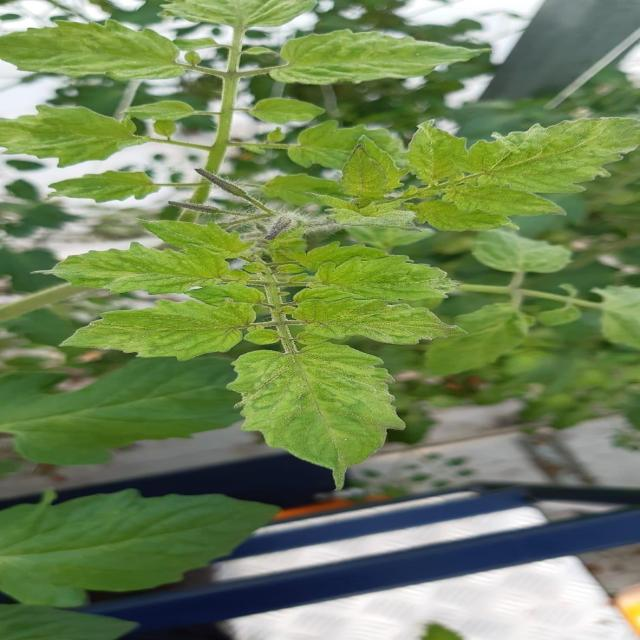T_L_H: (1, 490, 280, 609), (1, 359, 242, 466)
T_L_R: (226, 343, 404, 482), (461, 118, 640, 193), (268, 29, 484, 85), (61, 301, 254, 361), (1, 21, 185, 81), (47, 245, 231, 295), (292, 300, 463, 345), (315, 256, 456, 302), (142, 222, 253, 259), (407, 122, 467, 186), (442, 186, 564, 217), (410, 201, 516, 232), (342, 145, 391, 199), (331, 204, 418, 231), (188, 284, 264, 306), (245, 330, 280, 346)
T_S_R: (261, 272, 299, 355)
